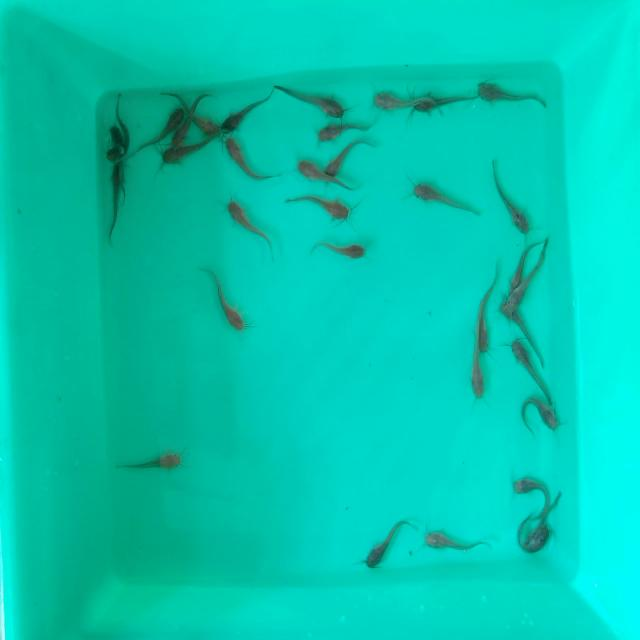lele: (492, 160, 532, 235), (362, 520, 417, 570), (411, 181, 479, 217), (477, 79, 553, 111), (274, 85, 344, 118), (112, 448, 182, 480), (216, 268, 248, 336), (509, 343, 549, 395), (224, 142, 274, 182), (328, 138, 380, 174), (290, 194, 352, 224), (226, 200, 270, 242), (411, 93, 475, 120), (516, 400, 556, 442), (222, 96, 266, 134), (512, 516, 550, 560), (310, 120, 374, 146), (514, 468, 554, 509), (296, 164, 358, 190), (474, 279, 496, 352), (426, 530, 492, 554), (306, 238, 368, 262), (157, 150, 210, 178), (497, 307, 539, 341), (106, 170, 124, 243), (106, 91, 128, 145), (370, 89, 418, 113), (146, 110, 182, 140), (466, 355, 484, 411), (509, 245, 531, 288), (193, 100, 216, 138), (502, 286, 541, 308), (104, 148, 138, 166), (172, 120, 190, 150)
